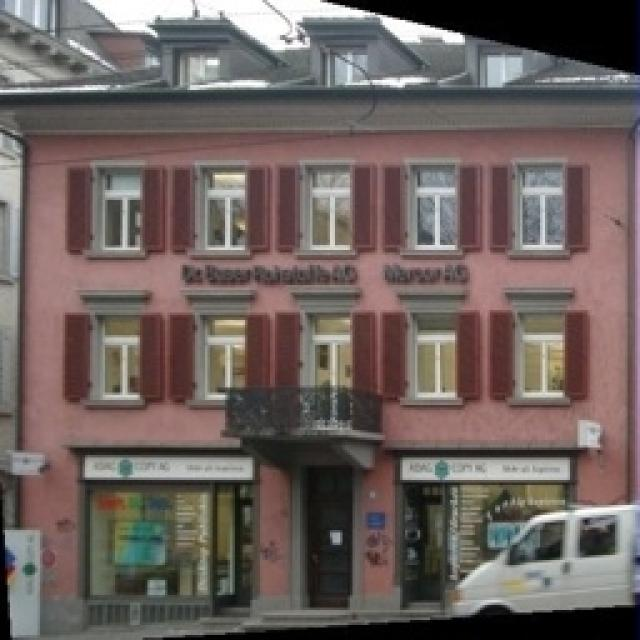building: (17, 27, 640, 630)
